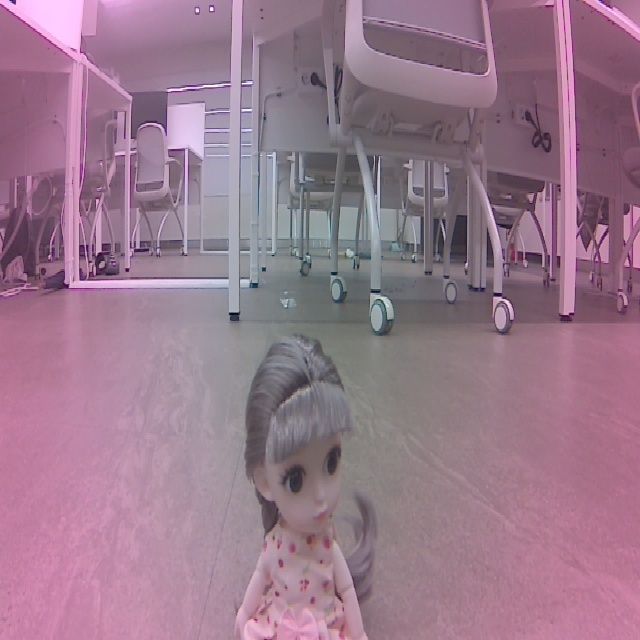장애물: (226, 335, 389, 640)
